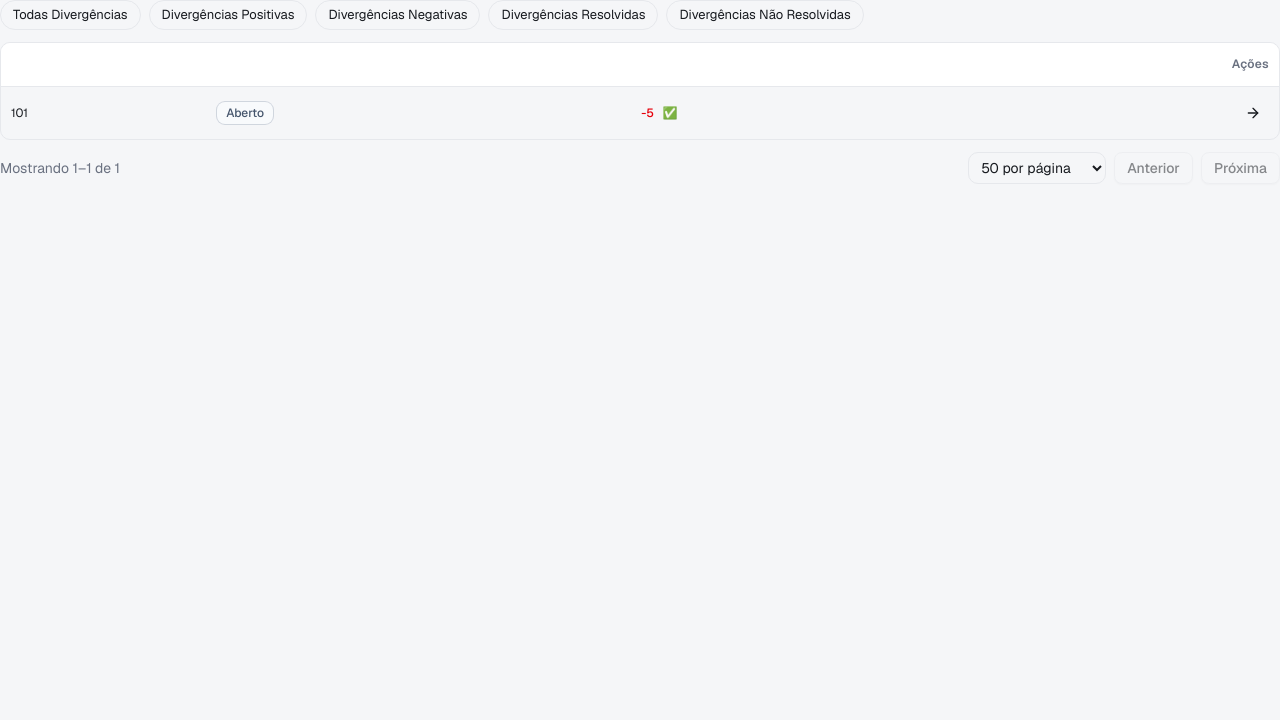
it: diálogo de justificativa › permissão administrar › SEM permissão: a caixa existe, é só leitura, mostra o texto e não há Salvar
Click the button named "Divergência justificada" at x=670, y=113, box [660,103,680,123]
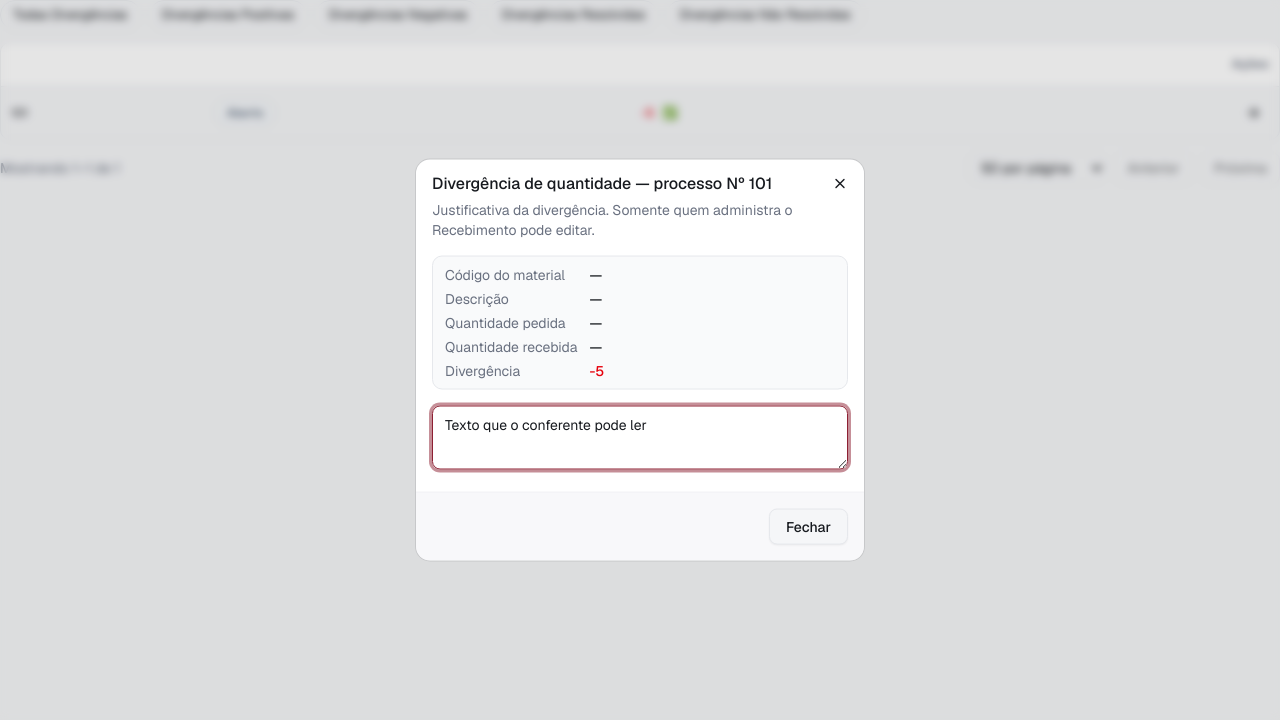
Expected: the text box named "Justificativa da divergência" holds "Texto que o conferente pode ler", [432,406,848,470]
Expected: the button "Fechar" is shown, [769,508,848,544]
